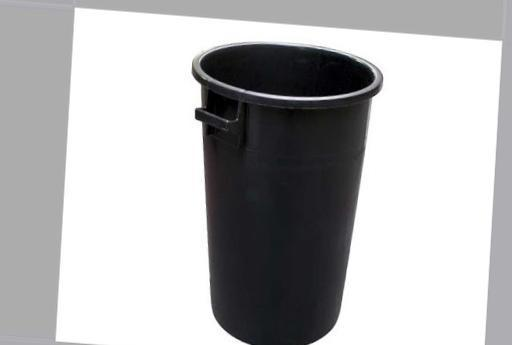Bote de Basura: (189, 39, 379, 344)
